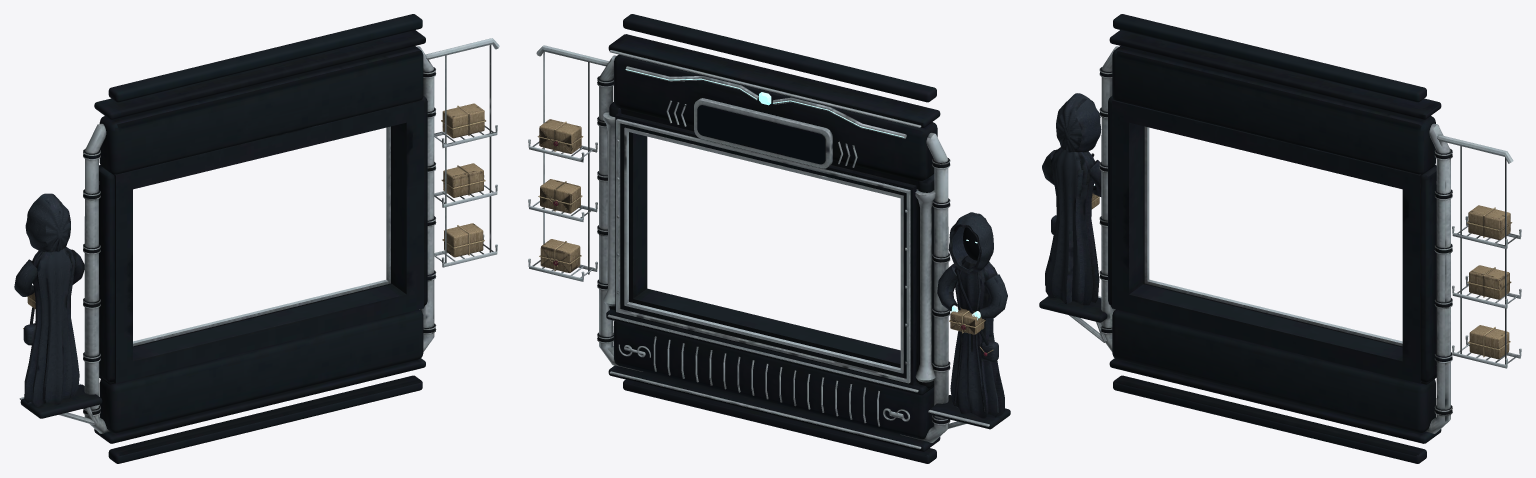
3 views of the same model, side by side, from view 1: azimuth 30°, elevation 25°; view 2: azimuth 150°, elevation 25°; view 3: azimuth 330°, elevation 25° (orthographic).
Parts seen in each view (by area): view 1: Black_depot_enamel, Platinum_mail_tubing, Charcoal_woven_cloth, Kraft_paper_fibres; view 2: Black_depot_enamel, Platinum_mail_tubing, Charcoal_woven_cloth, Uniform_dark_display, Kraft_paper_fibres, Ice_spectral_glow, Natural_linen_cord; view 3: Black_depot_enamel, Platinum_mail_tubing, Charcoal_woven_cloth, Kraft_paper_fibres.
Part boxes in pixels (x1,y1,x2,y2): Black_depot_enamel: (20,14,435,463); Platinum_mail_tubing: (19,38,499,433); Charcoal_woven_cloth: (14,193,84,406); Kraft_paper_fibres: (27,103,484,308); Black_depot_enamel: (597,14,1010,463); Platinum_mail_tubing: (528,45,989,449); Charcoal_woven_cloth: (937,212,1007,418); Uniform_dark_display: (697,105,979,260); Kraft_paper_fibres: (539,119,984,334); Ice_spectral_glow: (625,69,980,320); Natural_linen_cord: (537,121,993,353); Black_depot_enamel: (1039,14,1452,463); Platinum_mail_tubing: (1069,46,1521,433); Charcoal_woven_cloth: (1042,93,1101,305); Kraft_paper_fibres: (1091,193,1510,359).
Bounding box in the file's own units: 11.94 × 8.9 × 1.19.
Materials: 8 (7 with a texture image).
